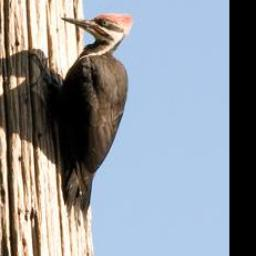Woodpecker: (31, 13, 135, 225)
